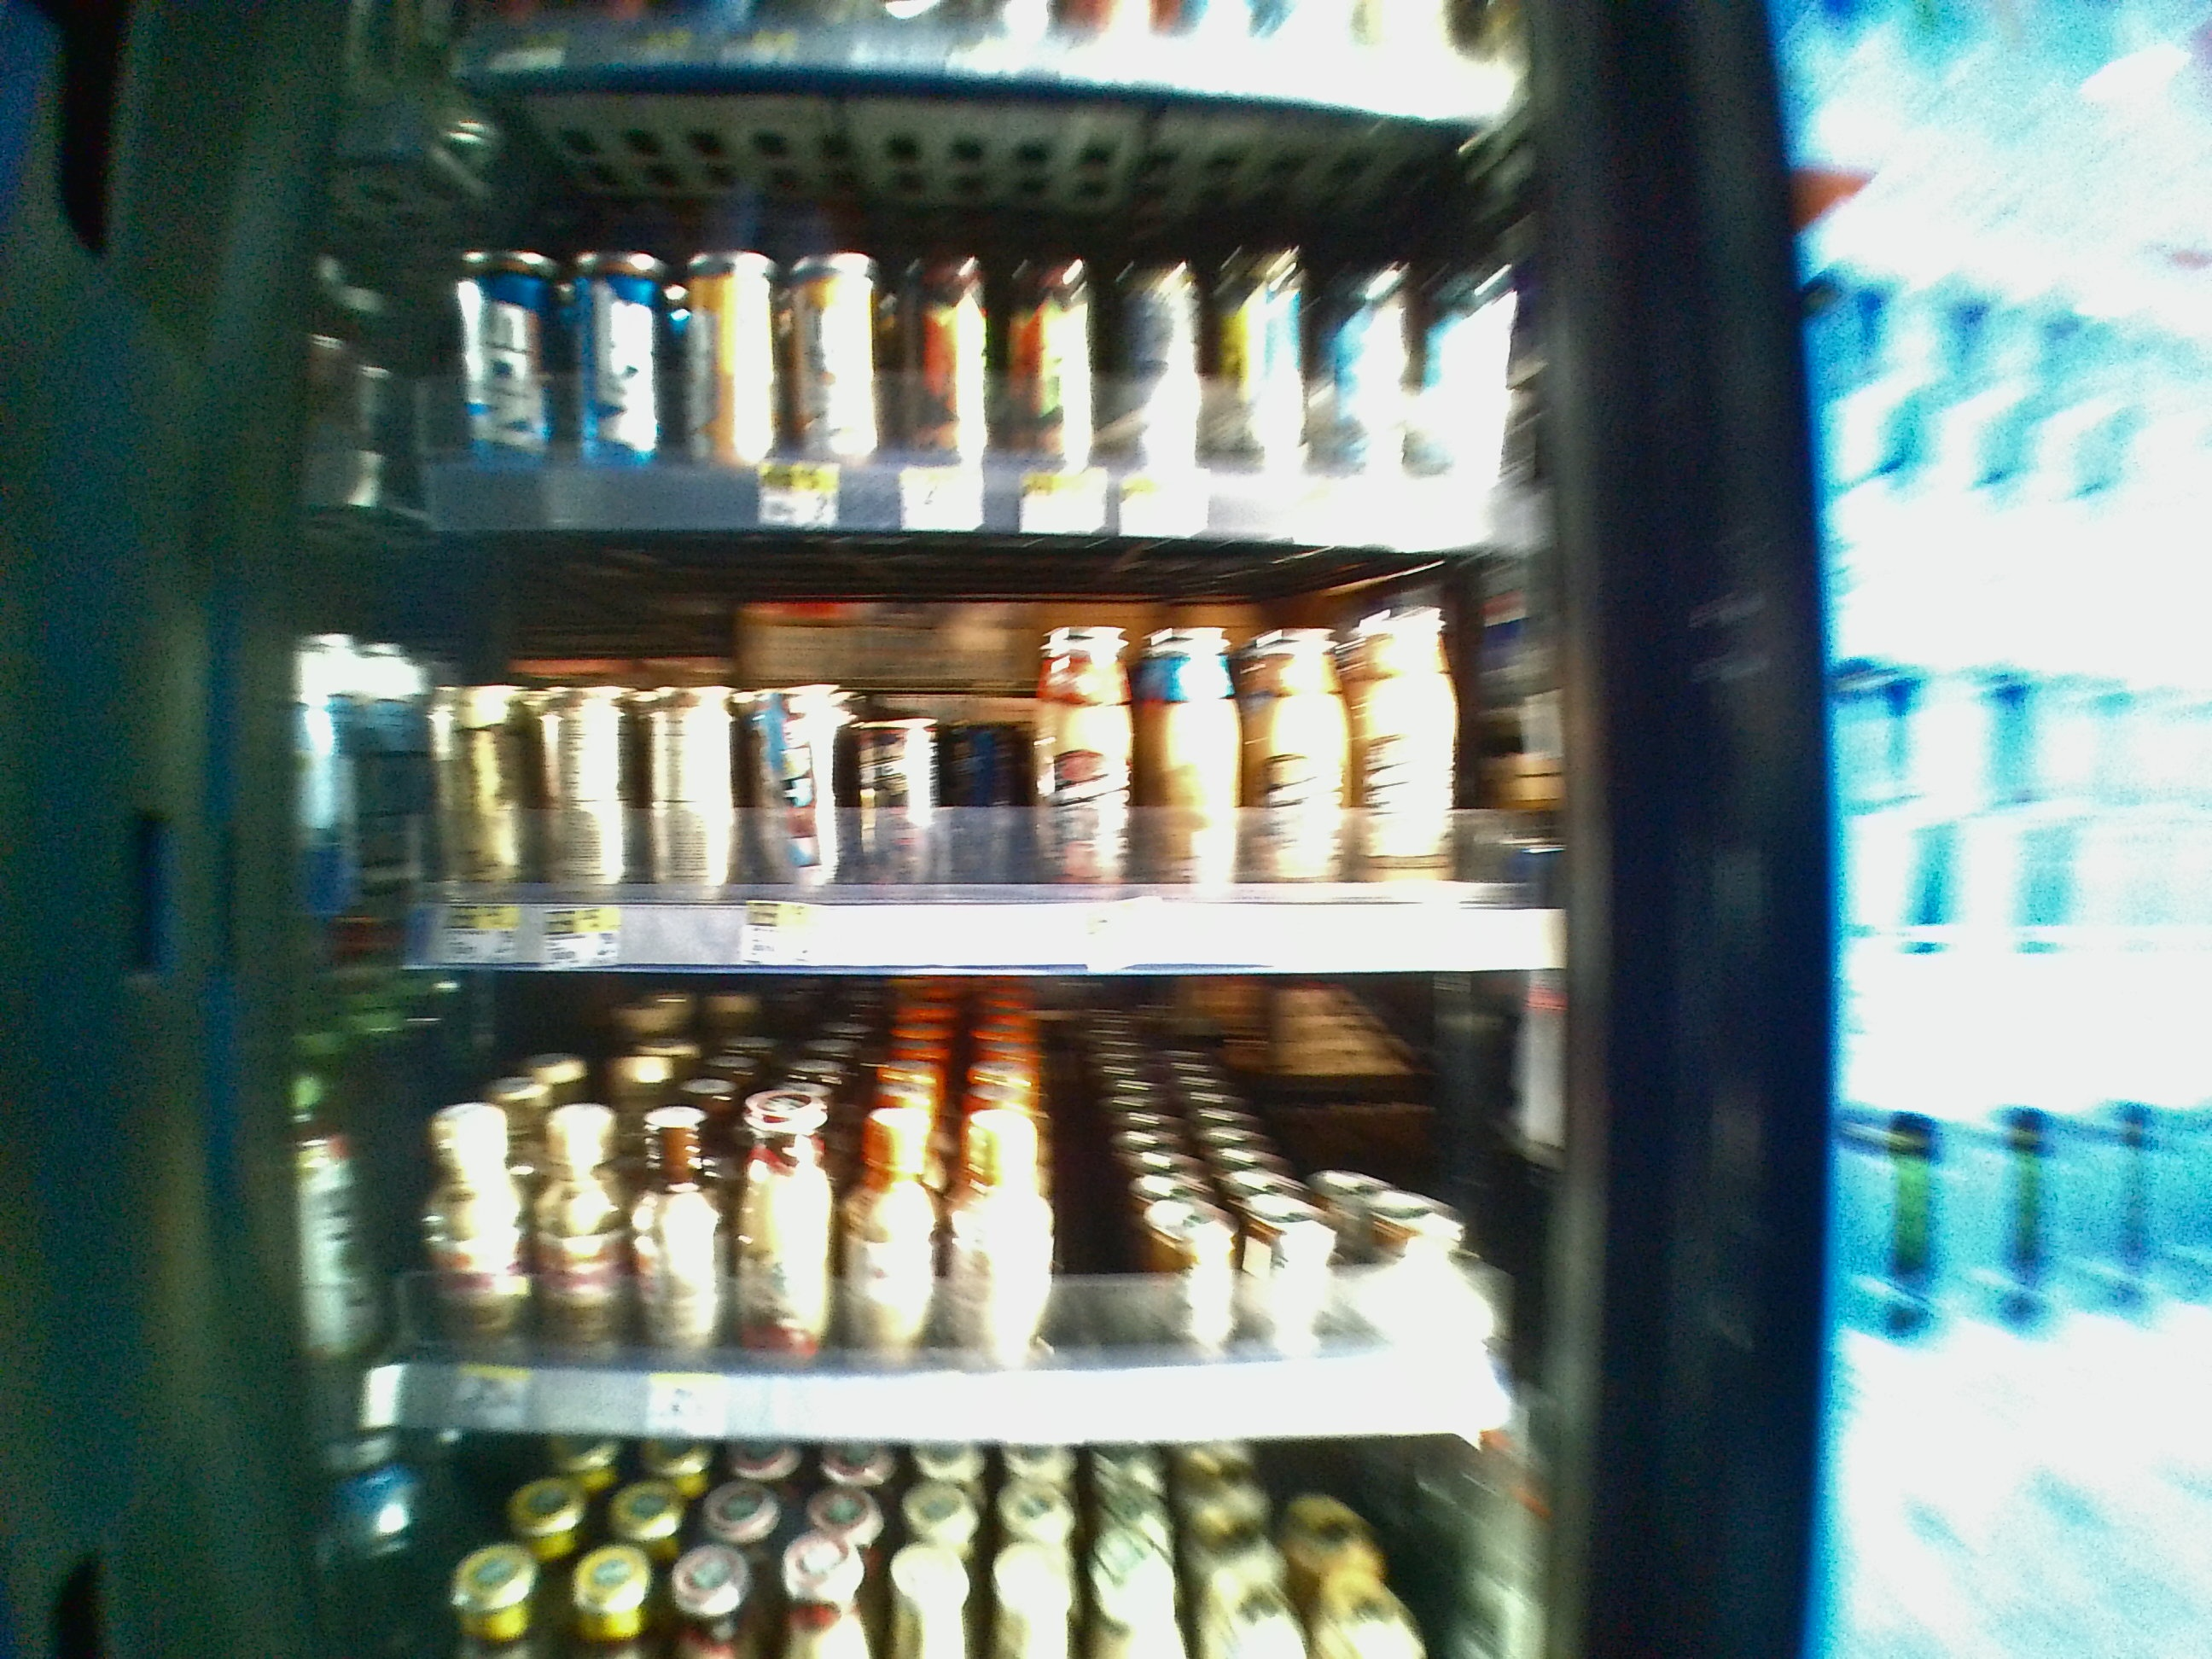shelf: (272, 979, 1583, 1443), (277, 532, 1576, 972)
